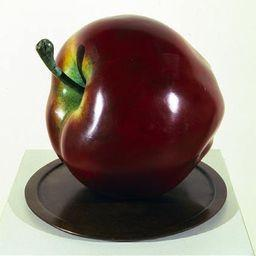apple: (41, 15, 225, 197)
